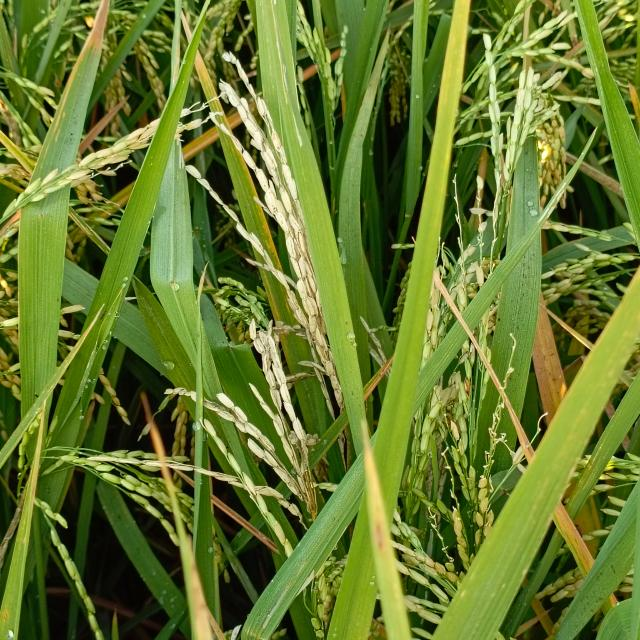Brown spot: (136, 389, 220, 640), (44, 1, 113, 147), (548, 502, 592, 577), (533, 315, 559, 428), (463, 324, 502, 391), (500, 392, 530, 457), (436, 276, 464, 322)
insects: (567, 561, 619, 634), (494, 269, 540, 322), (114, 512, 127, 524), (68, 128, 76, 142), (522, 148, 533, 158), (343, 320, 349, 328)
